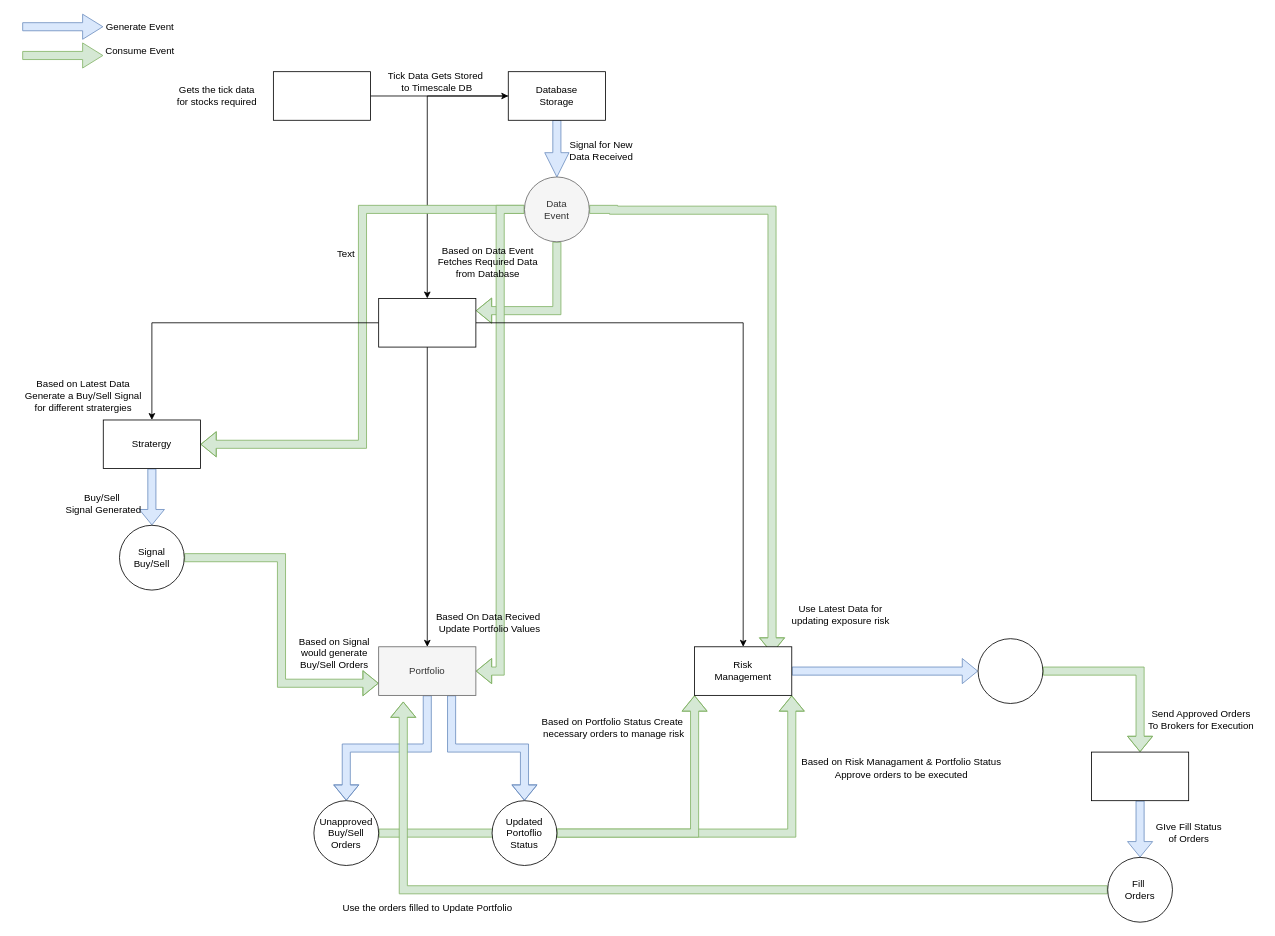
Image size: 1275x936. Some labels were removed from this diagram. Here are the shapes that lost their labels. From the top down, the centre of each, then its label:
At [322,95]: "Brokergae Feed".
At [427,322]: "Data Handler".
At [1010,670]: "Approved Orders".
At [1140,776]: "Execution Engine".
